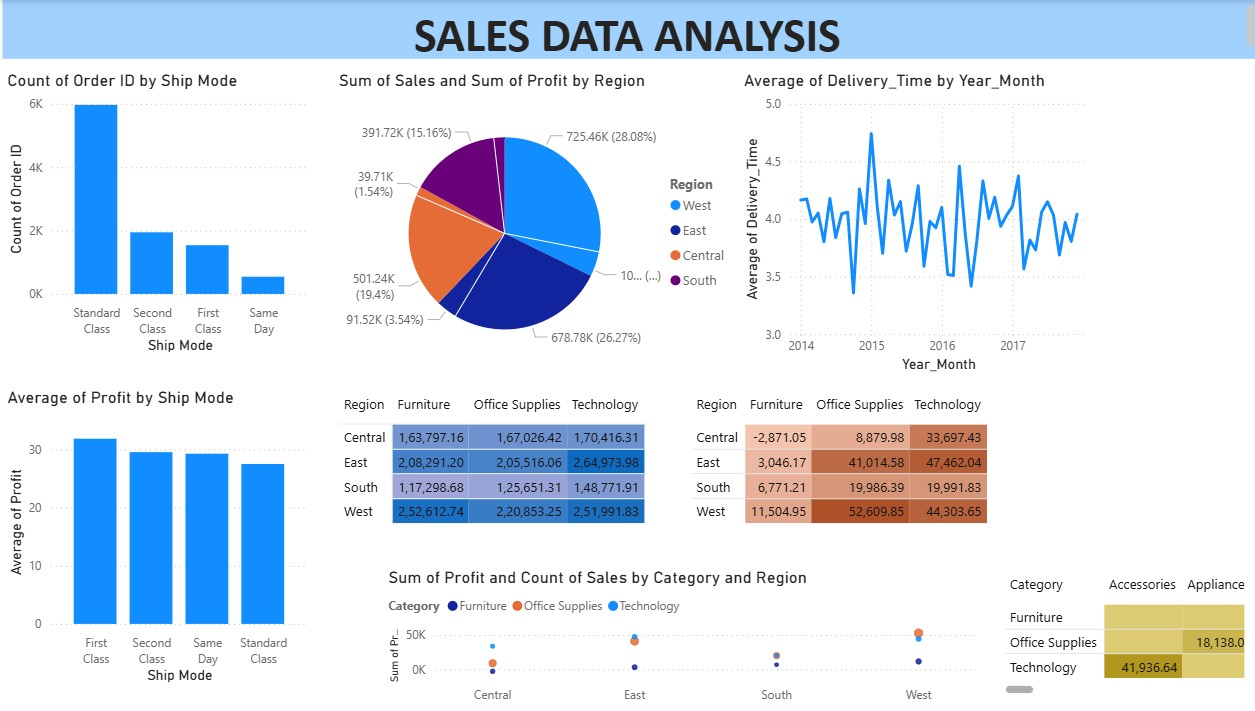

What the dashboard file says about the page in this screenshot:
{"tool":"powerbi","page":{"name":"Page 3","canvas":[1280,720],"ordinal":2},"visuals":[{"type":"textbox","box":[10.6,0,1268.9,59.1],"z":0},{"type":"columnChart","fields":{"Category":["DV+Sales+Data (1).Ship Mode"],"Y":["CountNonNull(DV+Sales+Data (1).Order ID)"]},"box":[10.6,71.2,313.4,289.2],"z":1000},{"type":"columnChart","fields":{"Category":["DV+Sales+Data (1).Ship Mode"],"Y":["Avg(DV+Sales+Data (1).Profit)"]},"box":[10.6,390.7,313.4,302.8],"z":2000},{"type":"pieChart","fields":{"Category":["DV+Sales+Data (1).Region"],"Y":["Sum(DV+Sales+Data (1).Sales)","Sum(DV+Sales+Data (1).Profit)"]},"box":[345.2,71.2,408.8,308.9],"z":3000},{"type":"pivotTable","fields":{"Columns":["DV+Sales+Data (1).Category"],"Rows":["DV+Sales+Data (1).Region"],"Values":["Sum(DV+Sales+Data (1).Sales)"]},"box":[345.2,390.7,355.8,162],"z":4000},{"type":"lineChart","fields":{"Y":["Avg(DV+Sales+Data (1).Delivery_Time)"],"Category":["DV+Sales+Data (1).Year_Month"]},"box":[754.1,71.2,358.9,308.9],"z":5000},{"type":"pivotTable","fields":{"Rows":["DV+Sales+Data (1).Region"],"Columns":["DV+Sales+Data (1).Category"],"Values":["Sum(DV+Sales+Data (1).Profit)"]},"box":[701.1,390.7,337.7,162],"z":6000},{"type":"scatterChart","fields":{"X":["DV+Sales+Data (1).Region"],"Y":["Sum(DV+Sales+Data (1).Profit)"],"Size":["CountNonNull(DV+Sales+Data (1).Sales)"],"Series":["DV+Sales+Data (1).Category"]},"box":[395.2,572.4,602.7,146.9],"z":7000},{"type":"pivotTable","fields":{"Columns":["DV+Sales+Data (1).Sub-Category"],"Rows":["DV+Sales+Data (1).Category"],"Values":["Sum(DV+Sales+Data (1).Profit)"]},"box":[1017.5,572.4,251.4,133.3],"z":7001}]}

Visuals, with their boxes in screenshot pixels (x1, y1, x2, y2), scaled from the page's 1280x720 canvas onto the 1255x711 screenshot:
textbox: detection(10, 0, 1254, 58)
columnChart - DV+Sales+Data (1).Ship Mode x CountNonNull(DV+Sales+Data (1).Order ID): detection(10, 70, 318, 356)
columnChart - DV+Sales+Data (1).Ship Mode x Avg(DV+Sales+Data (1).Profit): detection(10, 386, 318, 685)
pieChart - DV+Sales+Data (1).Region x Sum(DV+Sales+Data (1).Sales): detection(338, 70, 739, 375)
pivotTable - DV+Sales+Data (1).Category x DV+Sales+Data (1).Region: detection(338, 386, 687, 546)
lineChart - Avg(DV+Sales+Data (1).Delivery_Time) x DV+Sales+Data (1).Year_Month: detection(739, 70, 1091, 375)
pivotTable - DV+Sales+Data (1).Region x DV+Sales+Data (1).Category: detection(687, 386, 1019, 546)
scatterChart - DV+Sales+Data (1).Region x Sum(DV+Sales+Data (1).Profit): detection(387, 565, 978, 710)
pivotTable - DV+Sales+Data (1).Sub-Category x DV+Sales+Data (1).Category: detection(998, 565, 1244, 697)
